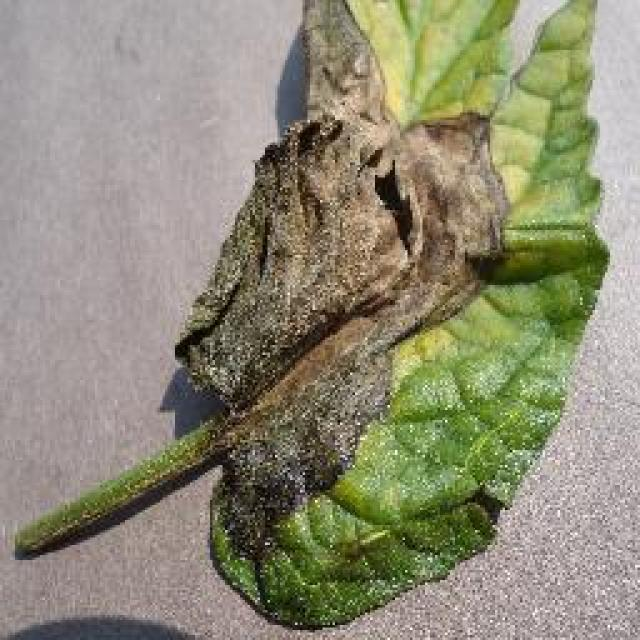Tomato late blight leaf: (170, 0, 610, 628)
